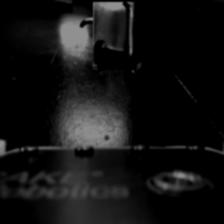Door Handle: (87, 9, 141, 64)
Lock: (129, 51, 163, 85)
